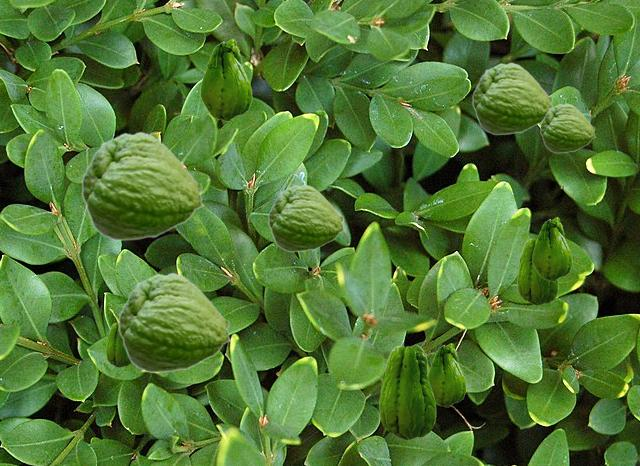sayote: (81, 131, 204, 240), (118, 272, 231, 372), (472, 62, 553, 134), (379, 344, 435, 439), (268, 184, 344, 251), (200, 39, 251, 120), (540, 103, 595, 152), (517, 237, 557, 304), (532, 217, 571, 280), (429, 343, 465, 406), (106, 322, 131, 366)
